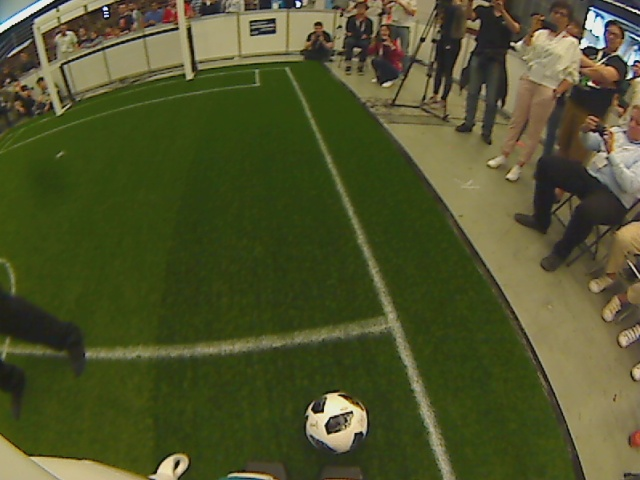ball: (300, 391, 369, 457)
